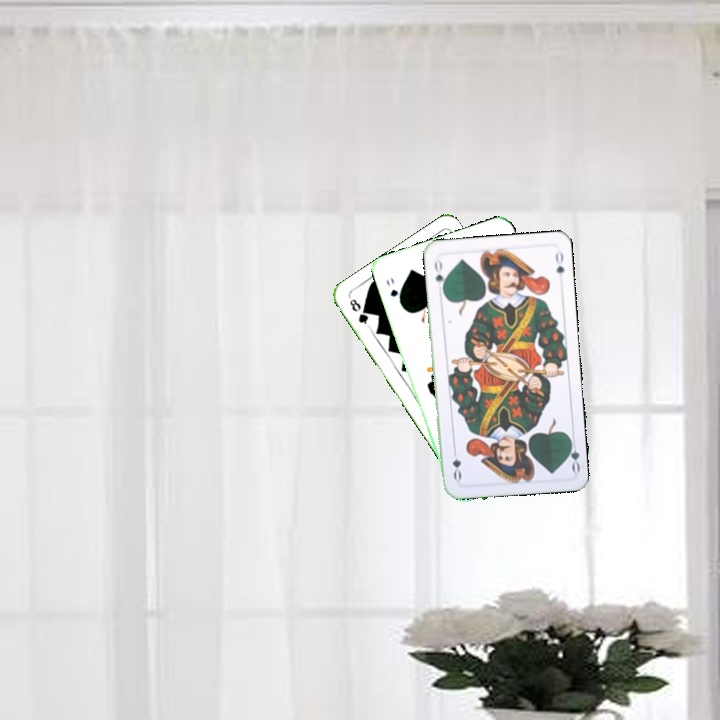G8: (346, 295, 373, 330)
GO: (562, 434, 582, 474), (382, 273, 404, 308), (430, 255, 448, 295)
